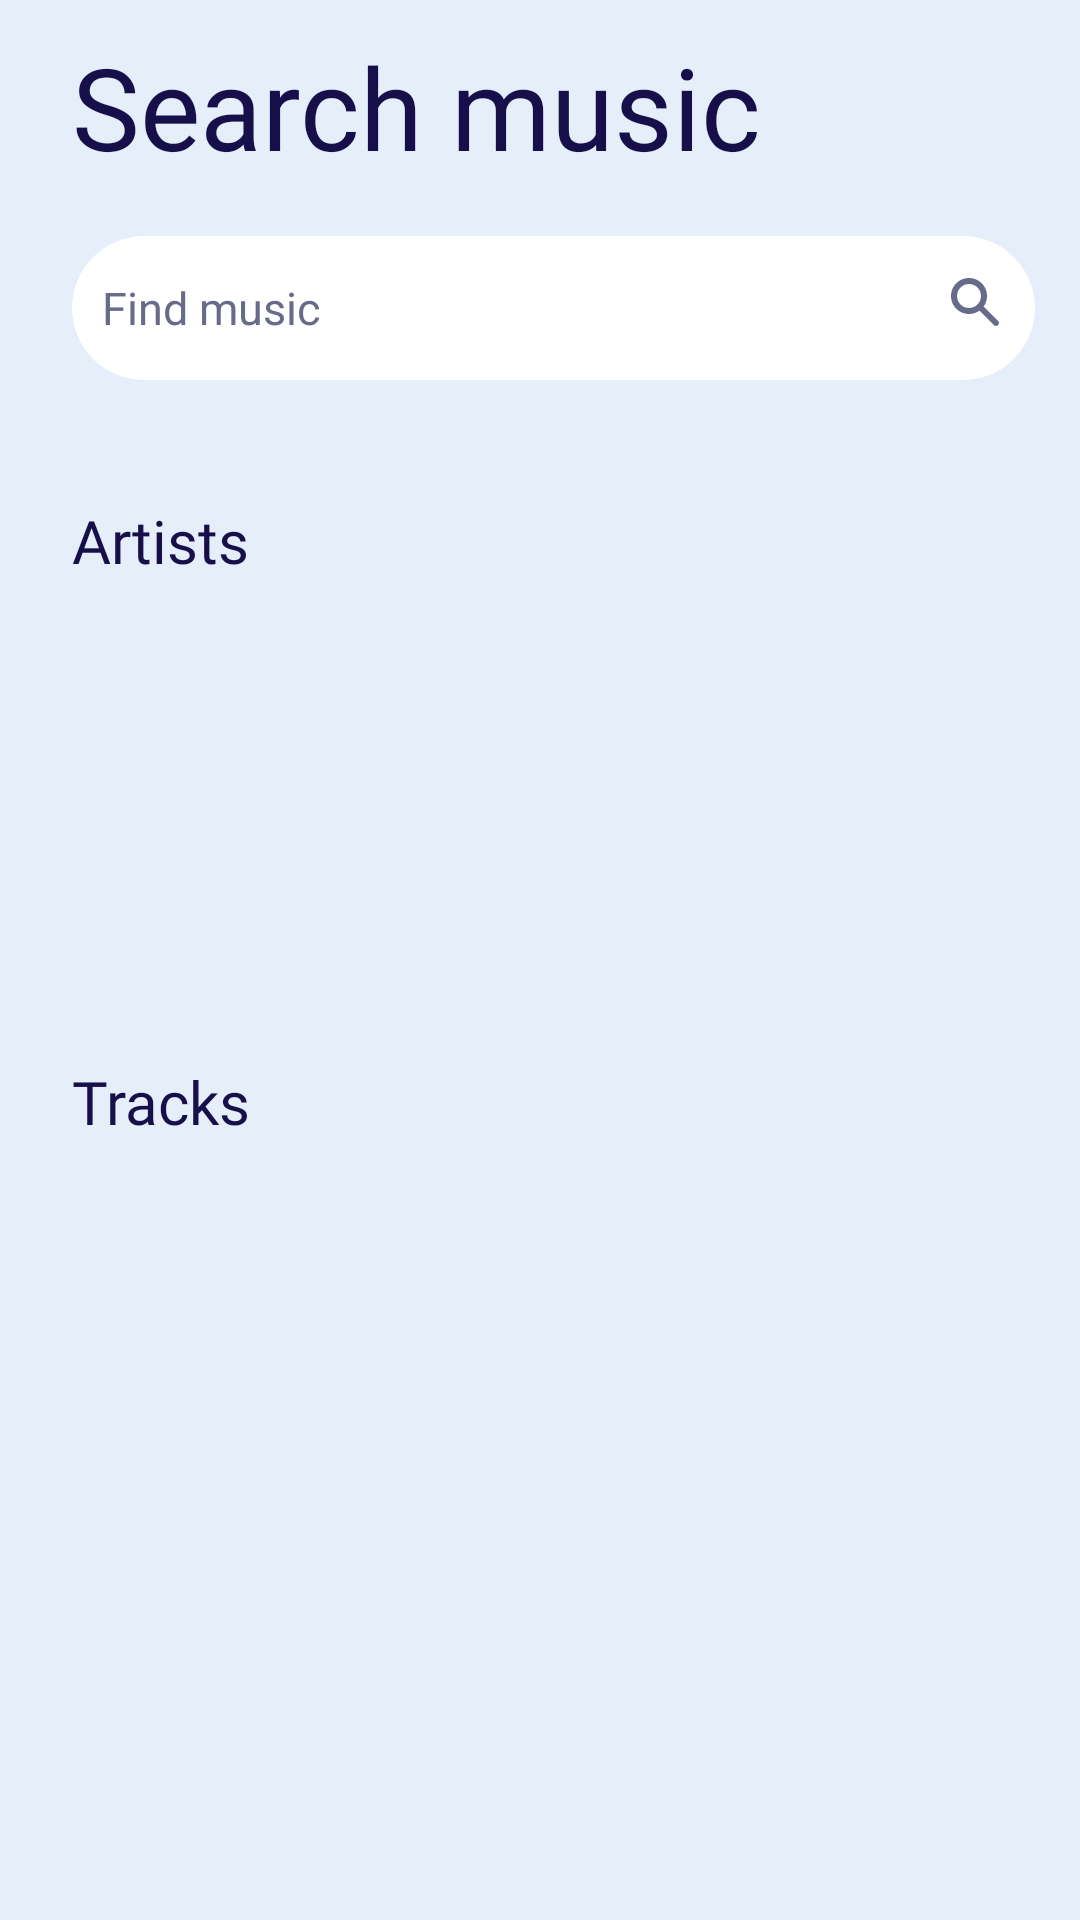

Icons on this 1080 × 1920 Android screen, each with its box as (x1, y1, x2, y2):
search: (951, 278, 999, 326)
